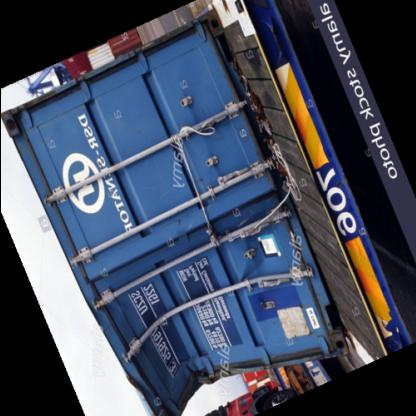Damage: (84, 272, 346, 410)
